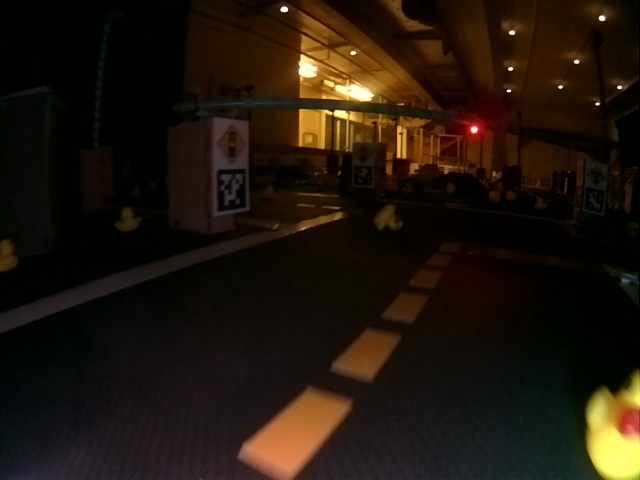Duckie: (587, 377, 638, 469), (114, 206, 142, 232), (0, 238, 18, 271), (374, 206, 398, 228)
QR code: (214, 168, 244, 213), (353, 165, 373, 187)
Signal sign: (216, 123, 245, 163), (352, 143, 373, 163)
Traffic light: (472, 122, 480, 135)
